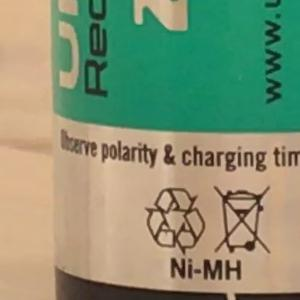NI-MH: (161, 250, 251, 289)
